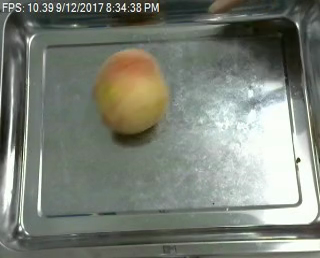Peach: (93, 46, 169, 135)
